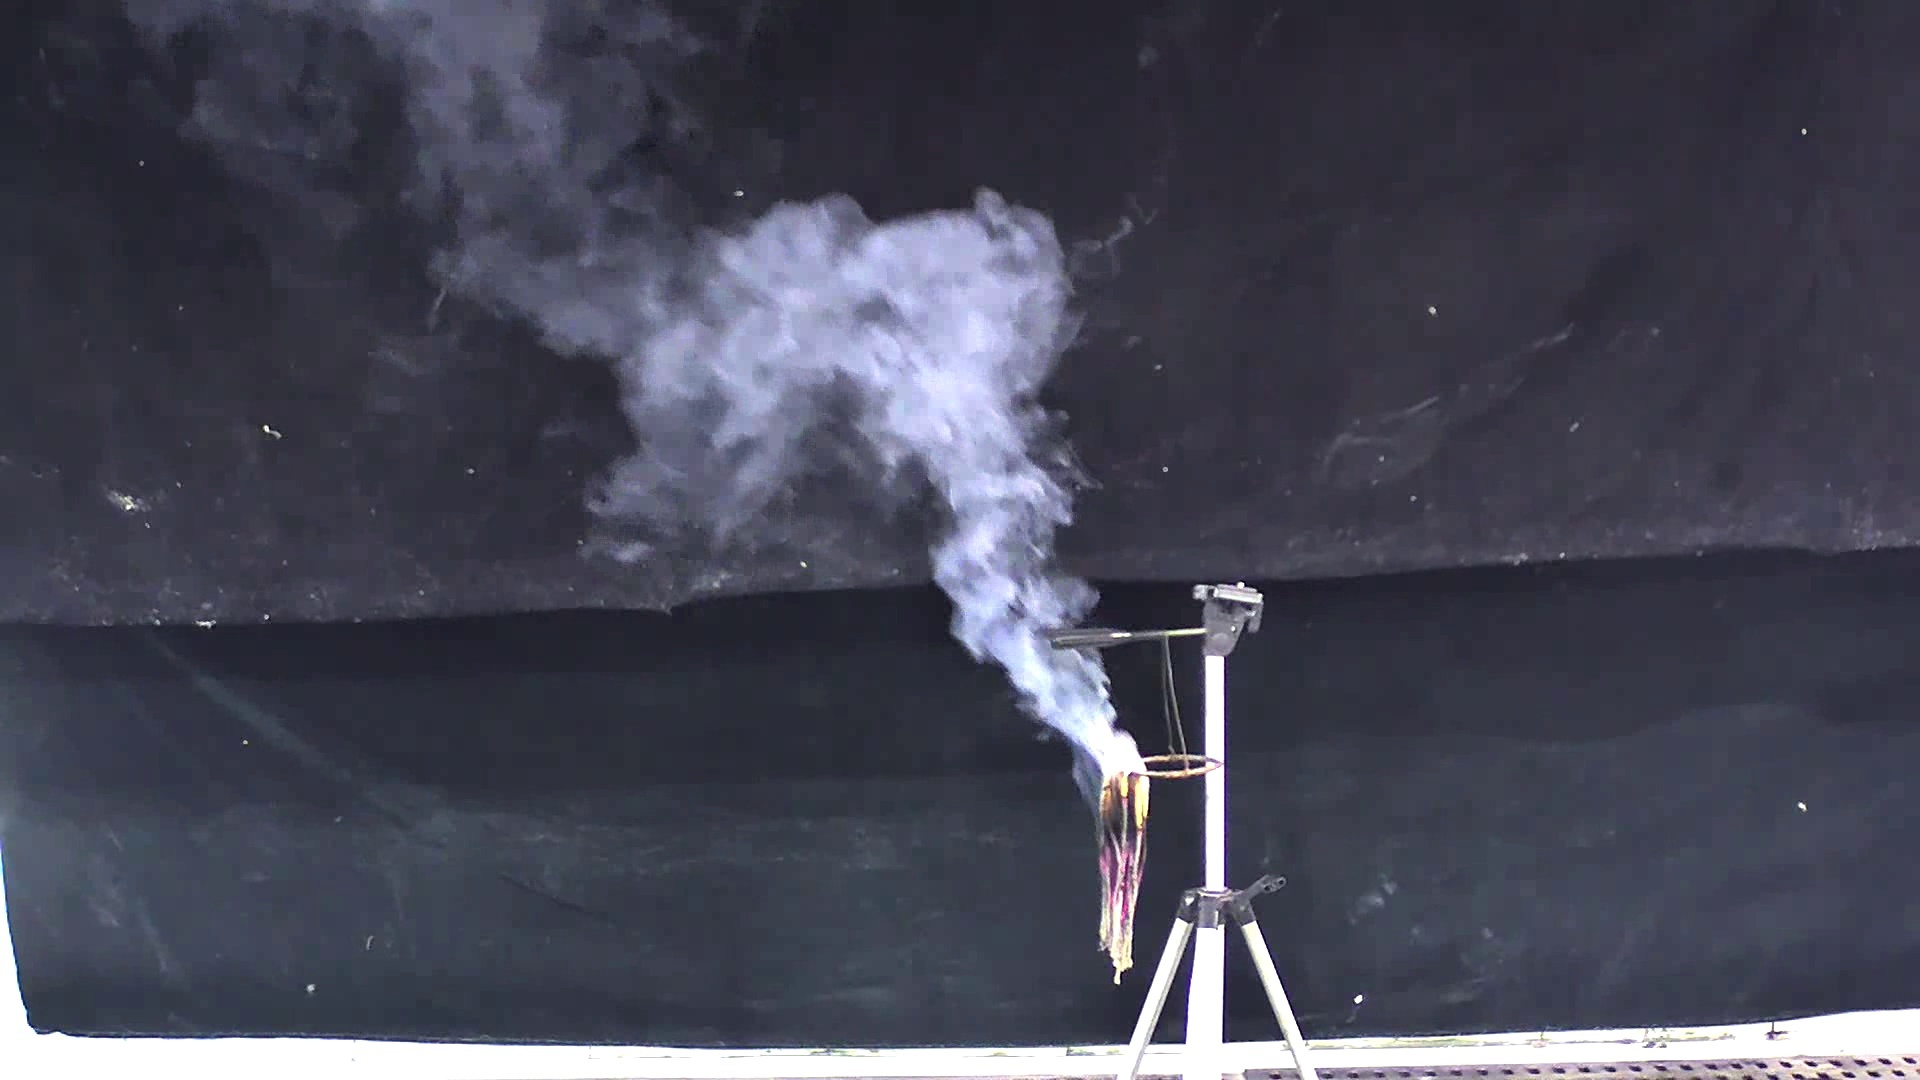smoke: (450, 179, 1160, 825)
